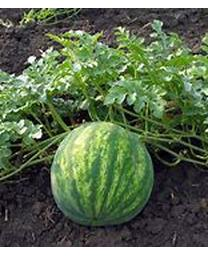watermelon: (50, 122, 154, 229)
